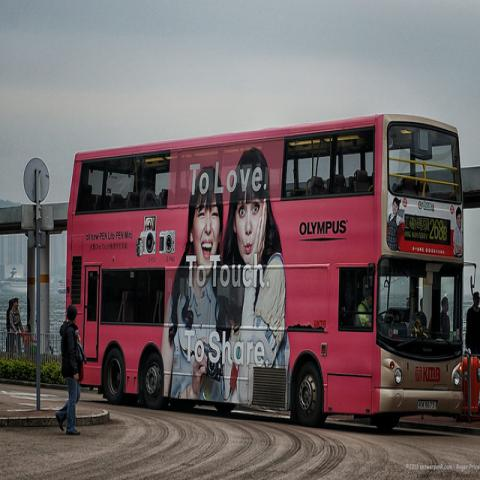bus: (65, 116, 464, 432)
